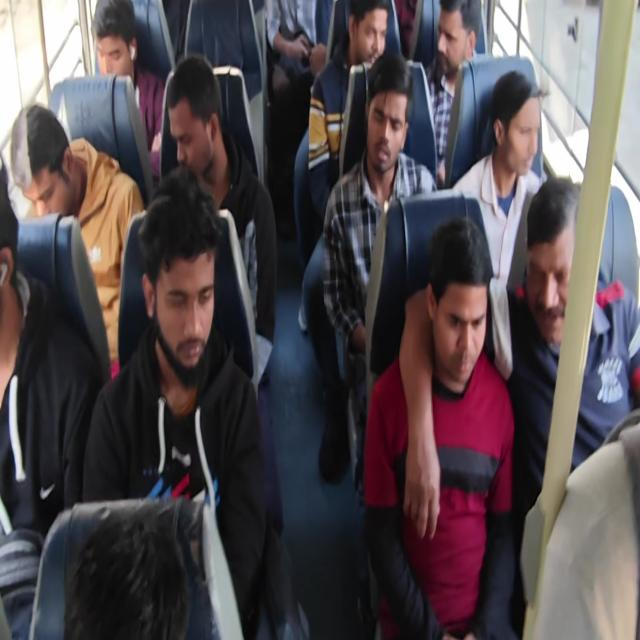person: (1, 1, 638, 638), (81, 167, 267, 637), (322, 50, 438, 632), (363, 216, 516, 638), (506, 175, 640, 636), (0, 154, 100, 638), (294, 1, 389, 483), (164, 53, 278, 395), (10, 102, 145, 378), (450, 69, 546, 380), (63, 497, 219, 639), (307, 0, 389, 220), (265, 0, 333, 234), (91, 0, 165, 181), (425, 0, 481, 188), (265, 0, 333, 99)
